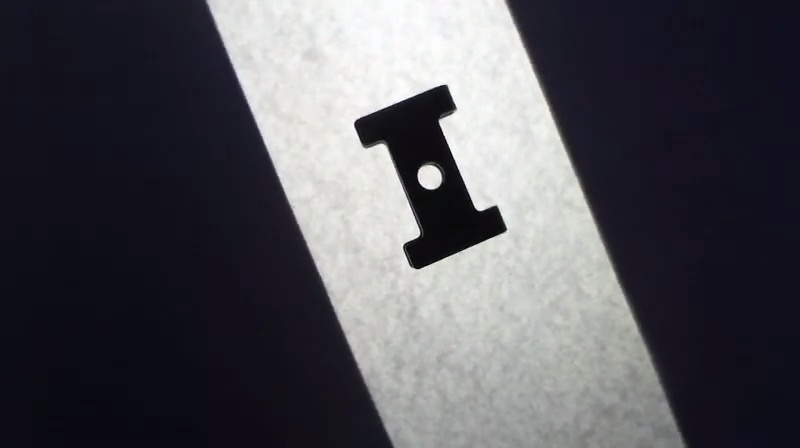O002: (350, 79, 510, 271)
